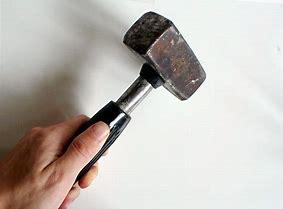hammer: (29, 9, 209, 208)
